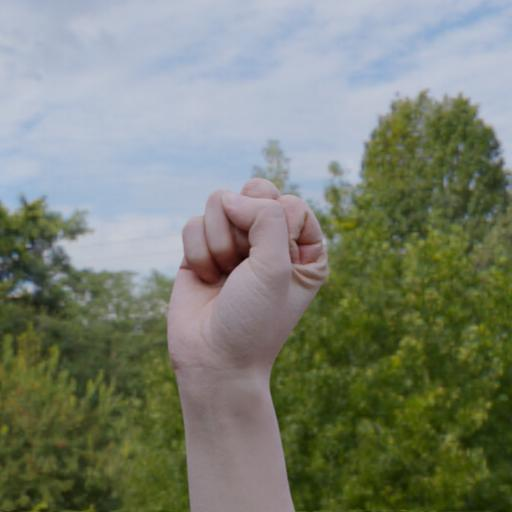S: (158, 172, 330, 386)
